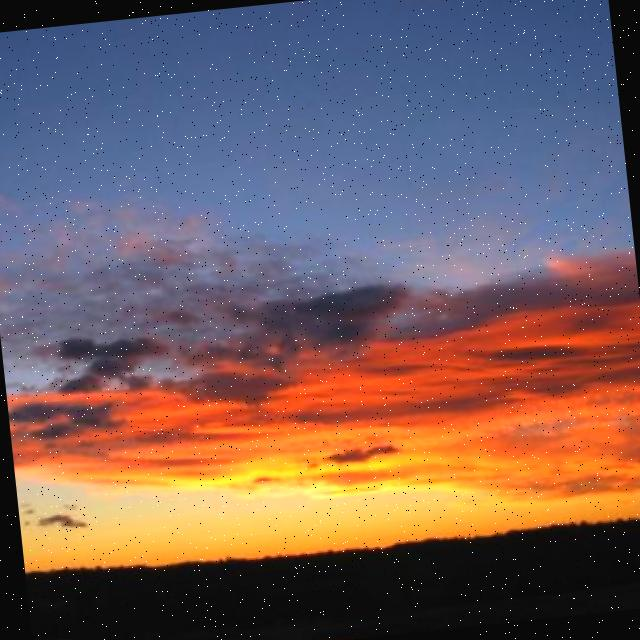As: (1, 108, 640, 536)
